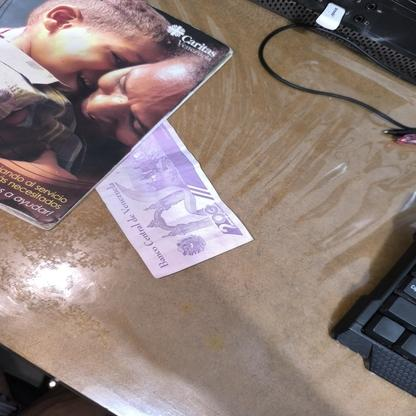one_hundred-back-vef: (94, 118, 254, 280)
